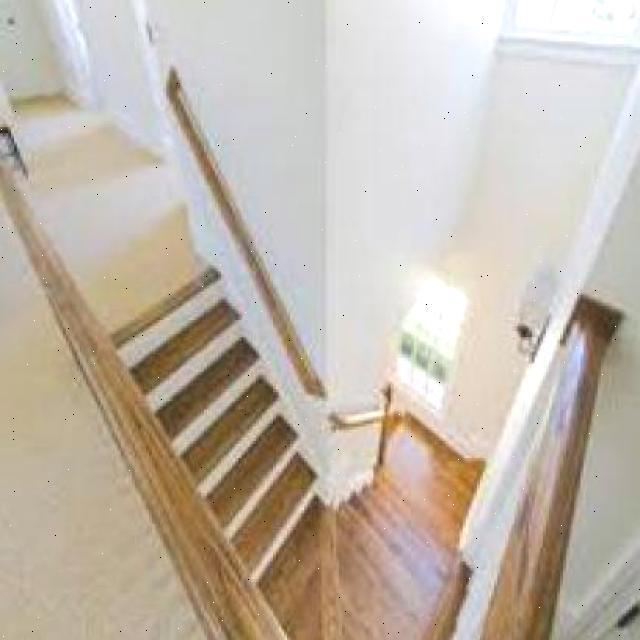stair: (143, 281, 328, 543)
